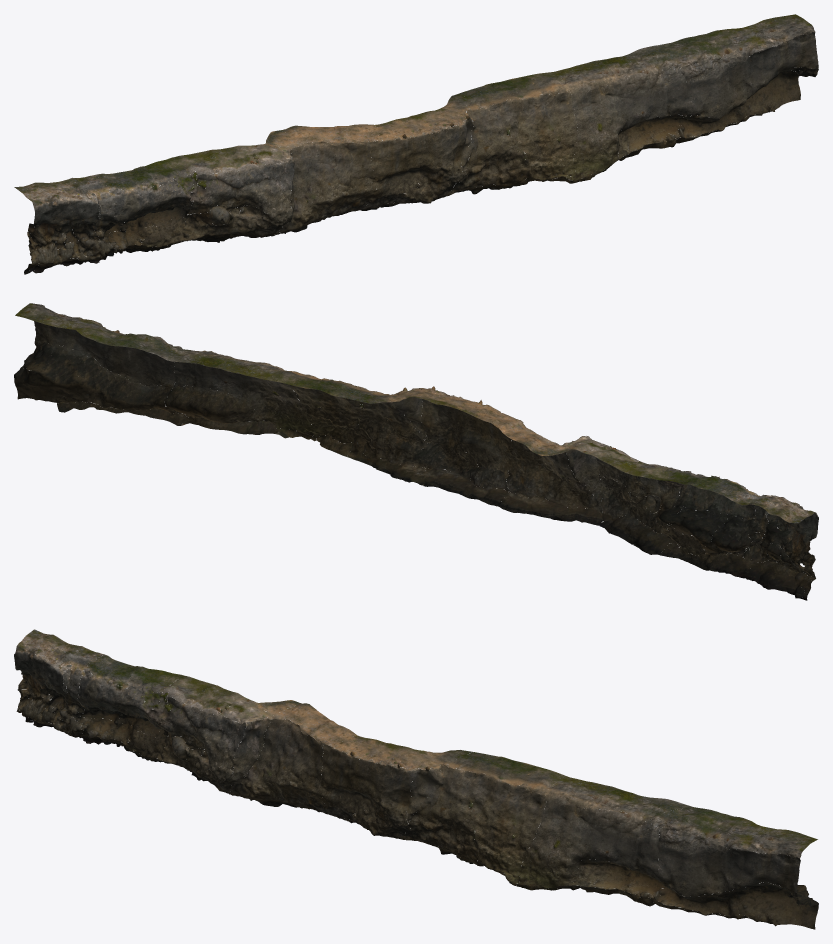
The model's file is coastal_cliff_01.fbx.
3 views of the same model, one above another, from view 1: azimuth 30°, elevation 25°; view 2: azimuth 150°, elevation 25°; view 3: azimuth 330°, elevation 25° (orthographic). The views are drawn at different scales.
Parts seen in each view (by area): view 1: coastal_cliff_01; view 2: coastal_cliff_01; view 3: coastal_cliff_01.
Part boxes in pixels (x1,y1,x2,y2): coastal_cliff_01: [14, 14, 818, 274]; coastal_cliff_01: [14, 303, 818, 600]; coastal_cliff_01: [14, 629, 818, 929].
Size of the model in its own units: 91.98 by 10.31 by 10.95.
Materials: 1 (1 with a texture image).
